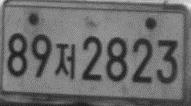2: (130, 38, 154, 84), (81, 36, 103, 82)
3: (156, 38, 178, 84)
8: (104, 36, 128, 82), (6, 32, 29, 78)
9: (29, 34, 52, 78)
저: (53, 42, 76, 81)
